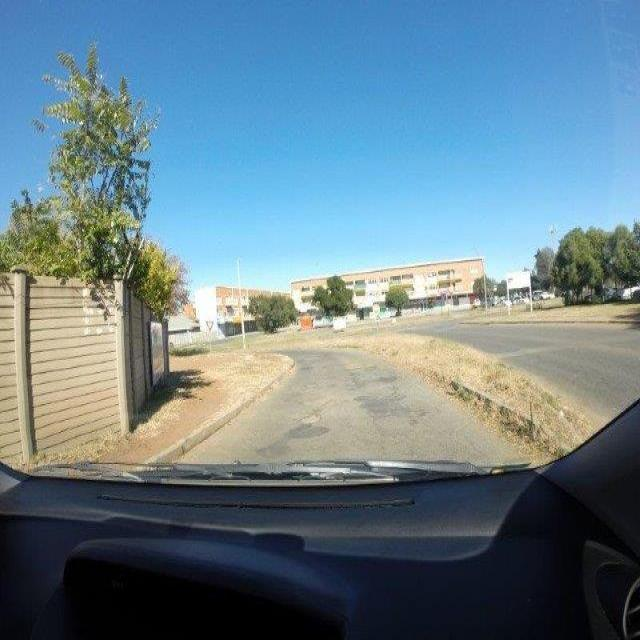lubang: (351, 392, 441, 430), (294, 393, 334, 442)
